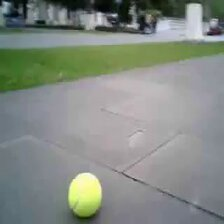tennis: (67, 172, 103, 219)
